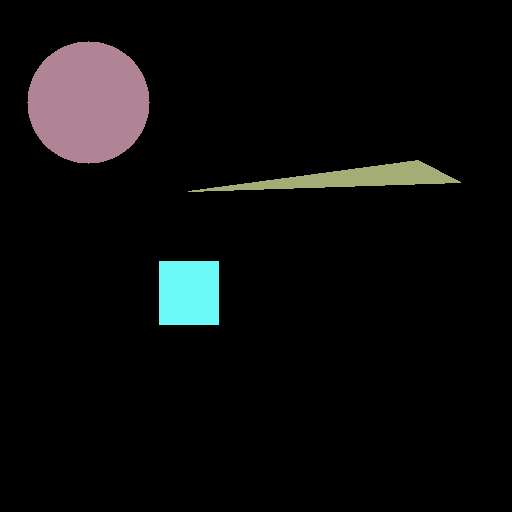circle: (27, 41, 149, 163)
square: (159, 261, 218, 324)
triangle: (188, 160, 460, 191)
